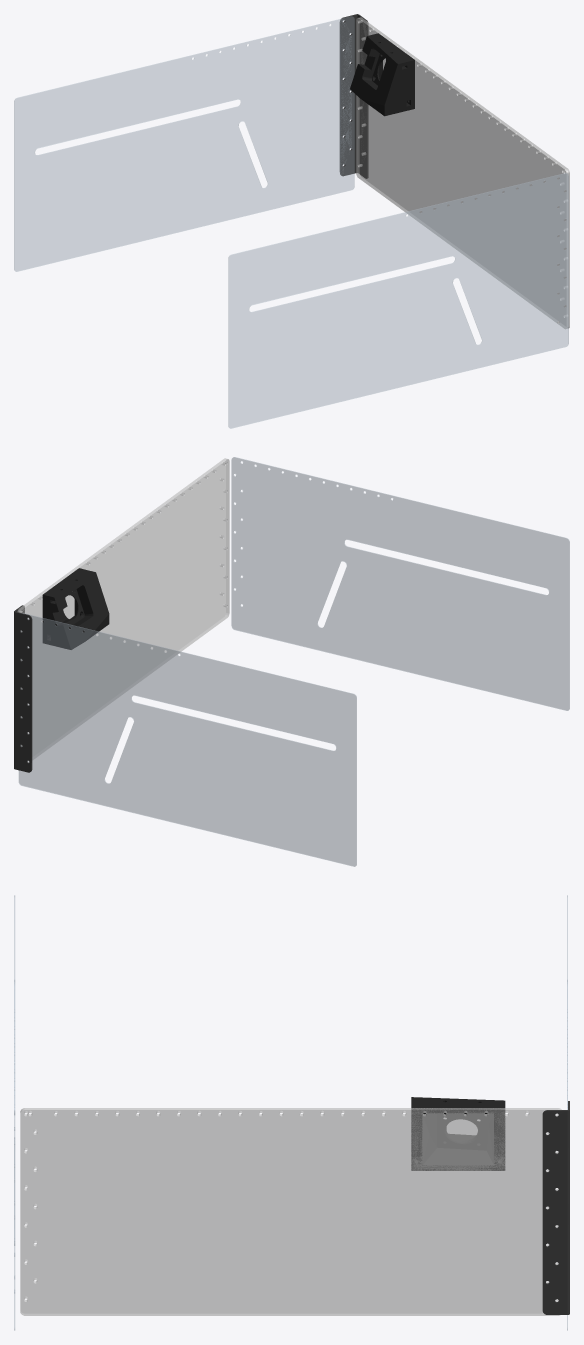
The model's file is 6328-front.glb.
3 views of the same model, one above another, from view 1: azimuth 30°, elevation 25°; view 2: azimuth 150°, elevation 25°; view 3: azimuth 270°, elevation 25° (orthographic). The views are drawn at different scales.
Visible parts, largest first — view 1: 6328-26C-0117 Dynamic Wall, 6328-26C-0119 Front Wall, 6328-26C-0118 Front Wall Angle Right, FRONT CORNER MOUNT; view 2: 6328-26C-0117 Dynamic Wall, 6328-26C-0119 Front Wall, FRONT CORNER MOUNT, 6328-26C-0118 Front Wall Angle Right; view 3: 6328-26C-0119 Front Wall, FRONT CORNER MOUNT, 6328-26C-0118 Front Wall Angle Right, 6328-26C-0117 Dynamic Wall.
Boxes of the visible parts, bbox=[...] form: 6328-26C-0117 Dynamic Wall: bbox=[14, 16, 568, 428]; 6328-26C-0119 Front Wall: bbox=[356, 17, 569, 328]; 6328-26C-0118 Front Wall Angle Right: bbox=[339, 14, 368, 178]; FRONT CORNER MOUNT: bbox=[350, 33, 414, 116]; 6328-26C-0117 Dynamic Wall: bbox=[18, 457, 569, 866]; 6328-26C-0119 Front Wall: bbox=[17, 458, 229, 762]; FRONT CORNER MOUNT: bbox=[42, 568, 109, 649]; 6328-26C-0118 Front Wall Angle Right: bbox=[14, 605, 32, 772]; 6328-26C-0119 Front Wall: bbox=[20, 1108, 561, 1315]; FRONT CORNER MOUNT: bbox=[411, 1097, 505, 1170]; 6328-26C-0118 Front Wall Angle Right: bbox=[542, 1101, 569, 1314]; 6328-26C-0117 Dynamic Wall: bbox=[14, 895, 567, 1330].
Size of the model in its own units: 0.6372 by 0.3071 by 0.6894.
